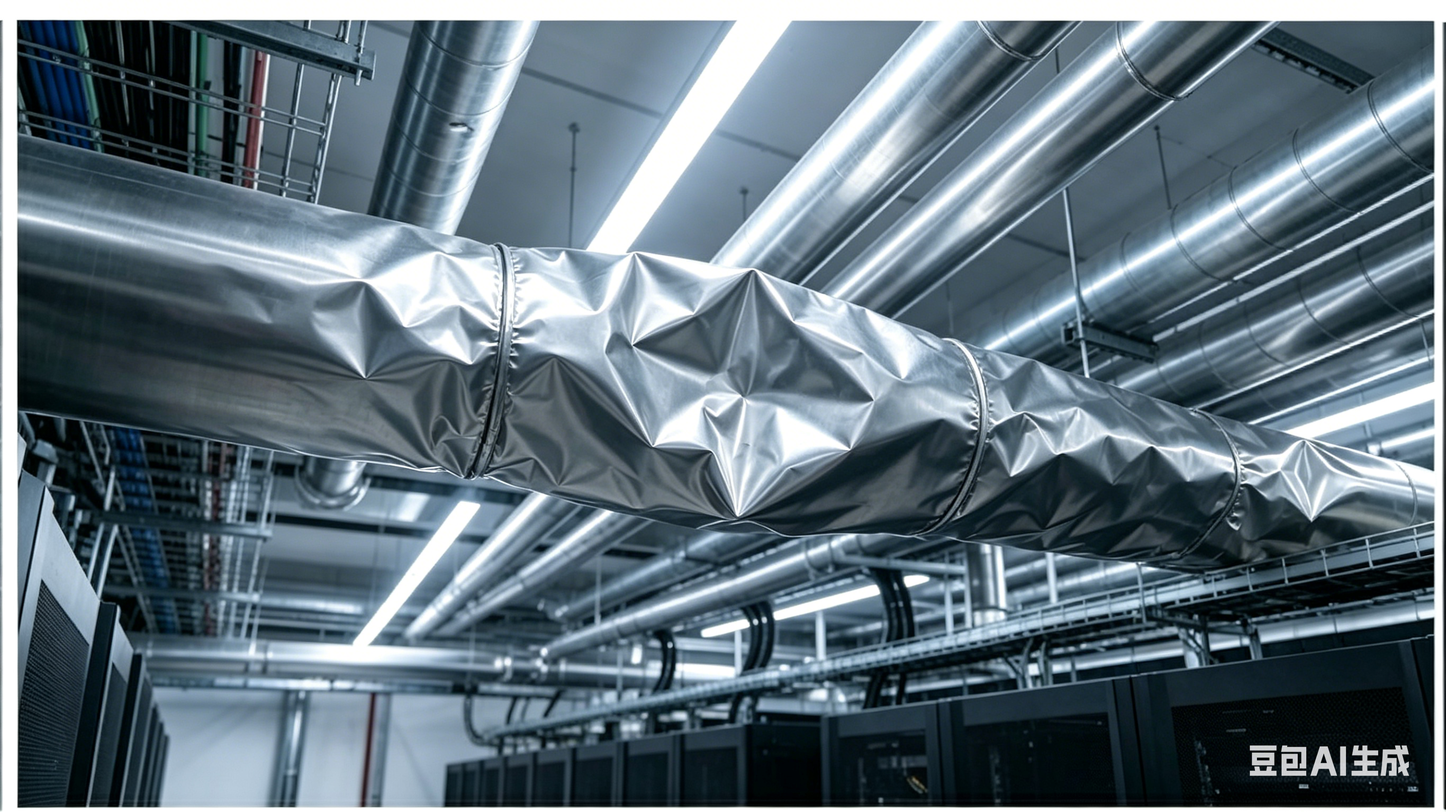Leakage: (520, 248, 969, 527), (307, 205, 500, 485), (984, 353, 1219, 557), (1245, 429, 1379, 563)
